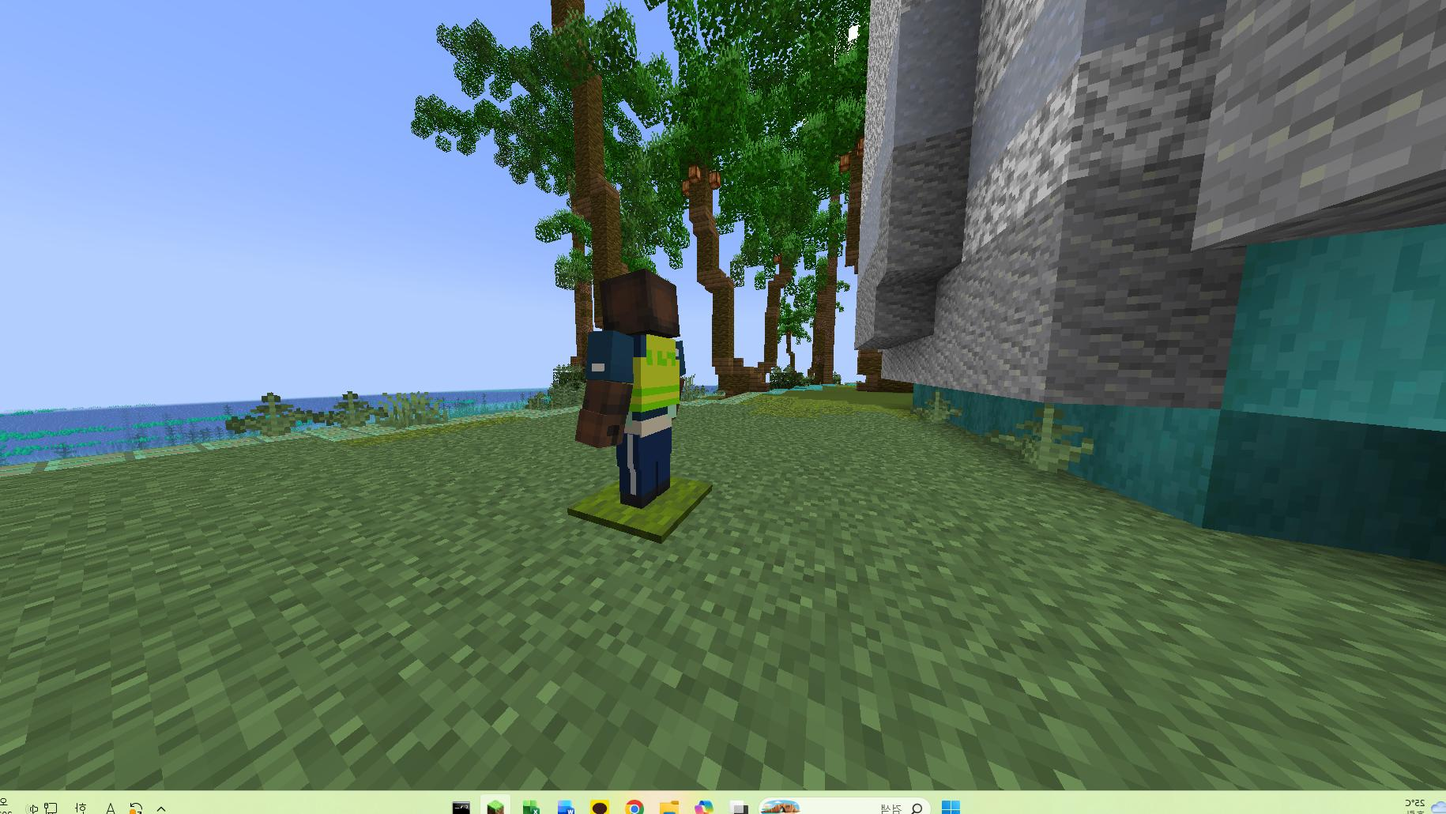Guardian: (577, 270, 684, 507)
